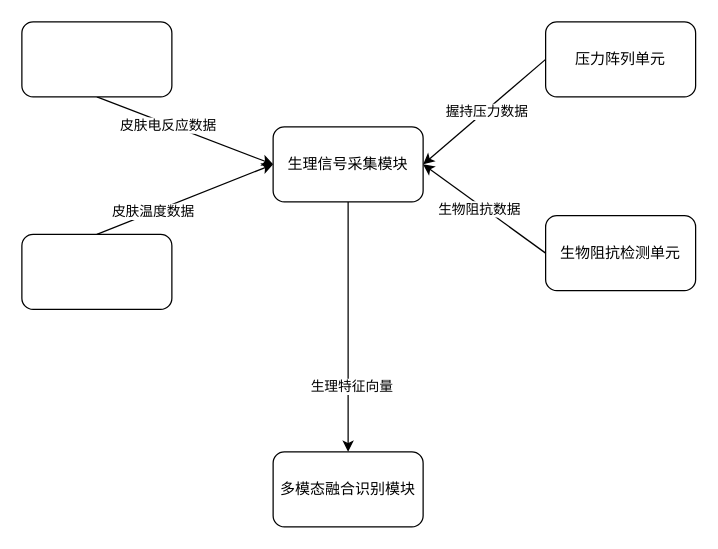
Image size: 718x549. Some labels were removed from this diagram. Each missing label, with the box of its shape:
温度传感单元: (21, 233, 172, 309)
皮肤电传感单元: (21, 21, 172, 97)
